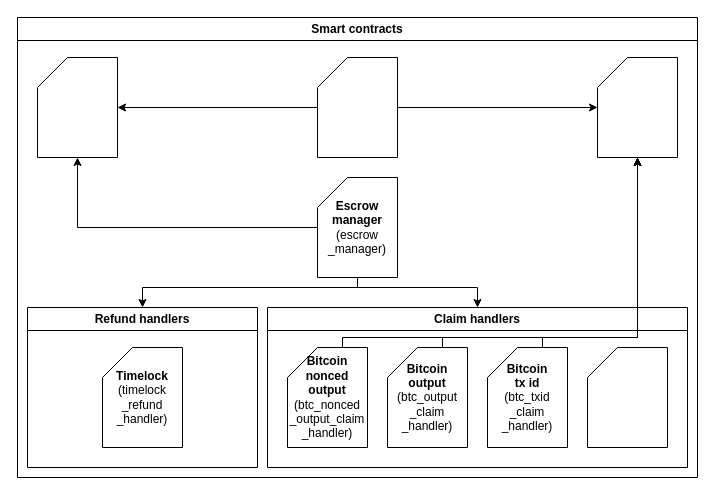
The diagram is 715 pixels wide and 495 high, and some of its shapes have lost their labels. The shapes that lost their labels are listed below. From the top down, each one's box as (x1, y1, x2, y2) in pixels, then its label:
(36, 56, 118, 158): Execution contract (execution _contract)
(316, 56, 398, 158): SPV vault manager (spv_swap _vault)
(596, 56, 678, 158): Bitcoin light client (btc_relay)
(586, 346, 668, 448): Hashlock (hashlock _claim _handler)
